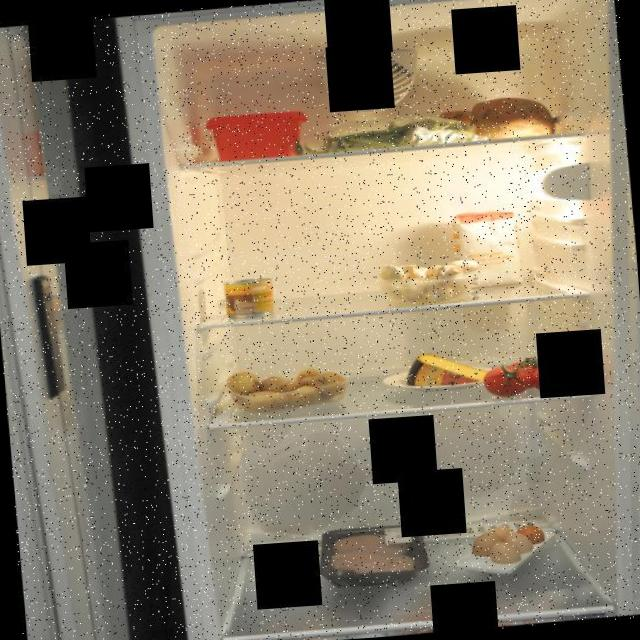Carne pollo: (326, 524, 416, 583)
Champiñones: (376, 254, 483, 308)
Huevos: (467, 520, 549, 568)
Mantequilla: (202, 106, 310, 164)
Patata: (225, 358, 352, 416)
Queso: (402, 346, 502, 391)
Tomate: (482, 350, 580, 400)
corn: (222, 275, 275, 320)
green_beans: (298, 110, 480, 158)
sugar: (446, 208, 528, 292)
sweet_potato: (422, 88, 566, 147)
